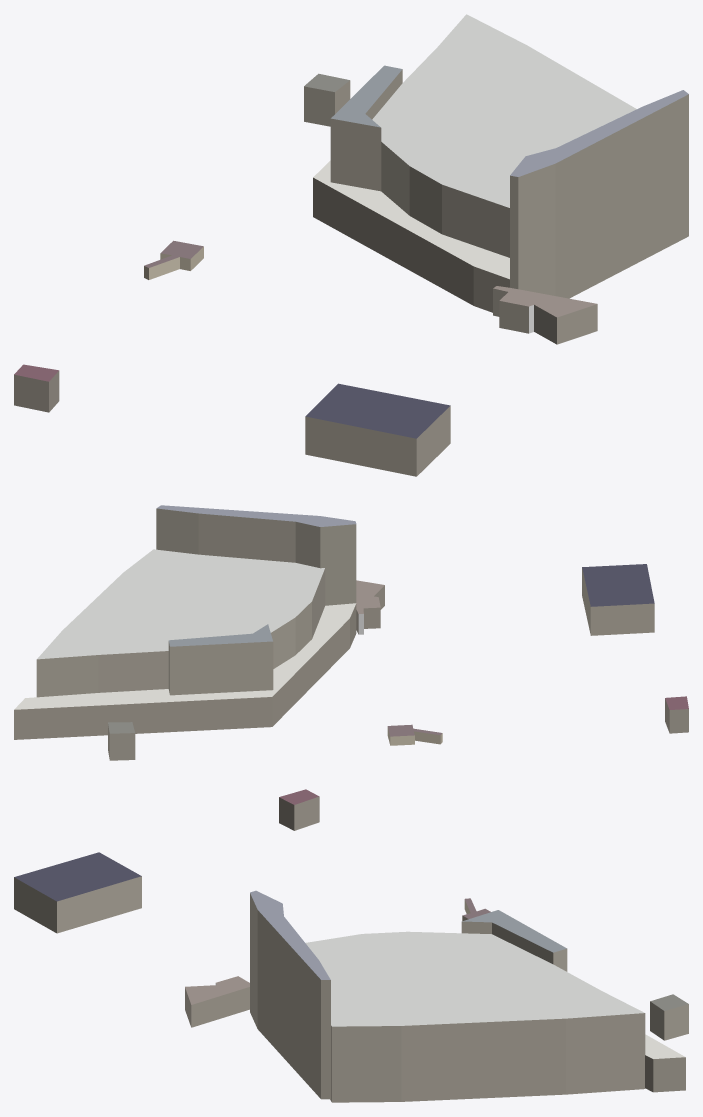
3 views of the same model, one above another, from view 1: azimuth 30°, elevation 25°; view 2: azimuth 150°, elevation 25°; view 3: azimuth 270°, elevation 25° (orthographic). The views are drawn at different scales.
Visible parts, largest first — view 1: tuile; view 2: tuile; view 3: tuile.
Boxes of the visible parts, <box> form: tuile: <box>14,14,688,476</box>; tuile: <box>14,505,688,760</box>; tuile: <box>14,789,688,1102</box>.
Bounding box in the file's own units: 258 × 51.72 × 261.
